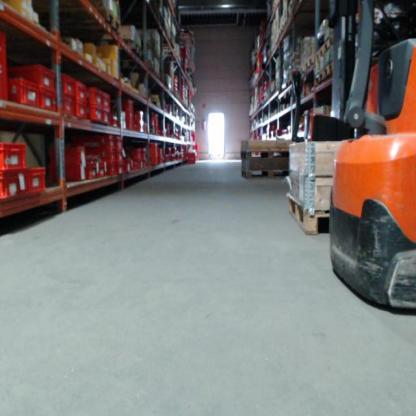pallet: (287, 195, 331, 236), (241, 169, 290, 180), (240, 150, 290, 160), (324, 60, 335, 83), (323, 33, 334, 55), (315, 67, 324, 87), (304, 54, 314, 71), (315, 45, 323, 65)
pallet_truck: (326, 1, 415, 318), (283, 68, 345, 144)
small_load_carrier: (15, 64, 56, 92), (8, 77, 39, 112), (0, 142, 31, 173), (21, 166, 45, 201), (1, 172, 25, 205), (61, 143, 88, 168), (55, 72, 78, 99), (60, 164, 83, 189), (86, 161, 106, 187), (37, 90, 58, 113), (62, 96, 77, 122), (80, 164, 99, 184), (1, 71, 12, 104), (86, 89, 105, 108), (76, 82, 89, 106), (74, 103, 89, 122), (1, 33, 8, 69), (90, 107, 103, 126), (100, 133, 115, 147), (129, 146, 144, 159), (104, 144, 114, 163), (109, 113, 120, 130), (132, 110, 147, 122), (102, 112, 112, 127), (107, 163, 116, 178), (115, 149, 123, 165), (125, 158, 132, 176), (135, 159, 146, 170), (122, 103, 134, 113), (104, 95, 112, 109), (114, 132, 122, 145), (134, 124, 144, 133), (123, 113, 132, 122), (126, 123, 134, 132), (117, 164, 120, 179)
